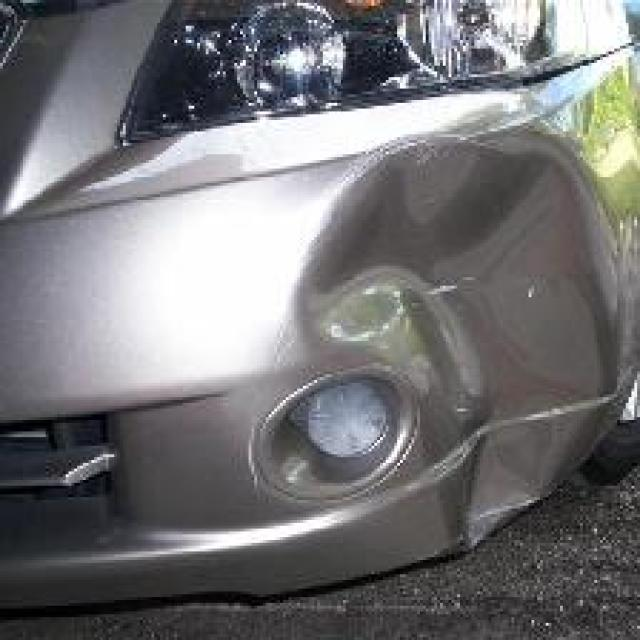bumper_dent_moderate: (306, 131, 614, 517)
